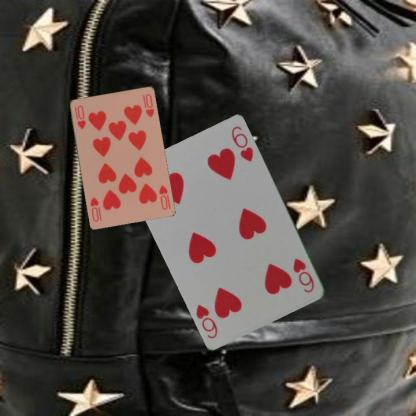10h: (72, 102, 86, 130), (156, 182, 169, 211)
6h: (291, 255, 316, 294)
